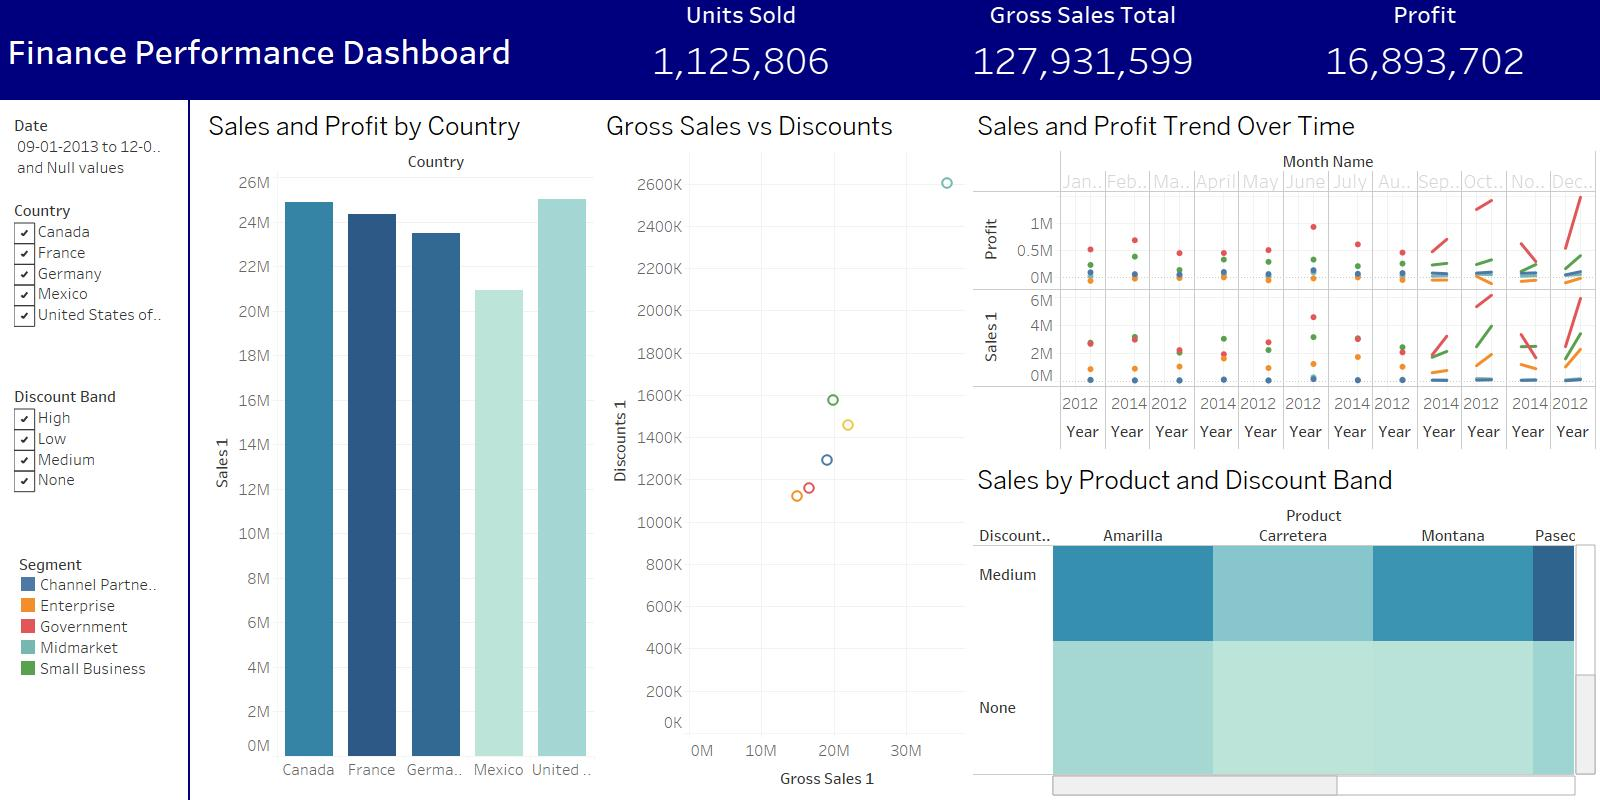

What the dashboard file says about the page in this screenshot:
{"tool":"tableau","page":{"name":"Finance Report","canvas":[1600,800],"ordinal":0},"visuals":[{"type":"text","box":[0,0,566,100]},{"type":"worksheet","title":"KPIs","mark":"Automatic","box":[566,0,1034,100]},{"type":"blank","box":[187,100,22,700]},{"type":"worksheet","title":"Bar Chart","mark":"Automatic","rows":["Calculation_1448751728417947652"],"cols":["Country"],"box":[209,100,398,700]},{"type":"worksheet","title":"Scatter","mark":"Automatic","rows":["Calculation_1448751728416755713"],"cols":["Calculation_1448751728416997378"],"box":[607,100,371,700]},{"type":"worksheet","title":"Line Graph","mark":"Line","rows":["Calculation_1448751728416518144","Calculation_1448751728417947652"],"cols":["Month Name ","Year"],"box":[978,100,622,354]},{"type":"filter","title":"Bar Chart","param":"[federated.0wlrhtn0hblrwb18xboj40uapvso].[none:Date:qk]","box":[4,104,179,85]},{"type":"filter","title":"Scatter","param":"[federated.0wlrhtn0hblrwb18xboj40uapvso].[none:Country:nk]","box":[4,189,179,186]},{"type":"filter","title":"Bar Chart","param":"[federated.0wlrhtn0hblrwb18xboj40uapvso].[none:Discount Band :nk]","box":[4,375,179,163]},{"type":"worksheet","title":"Heat","mark":"Automatic","rows":["Discount Band "],"cols":["Product "],"box":[978,454,622,346]},{"type":"legend","title":"Line Graph","param":"[federated.0wlrhtn0hblrwb18xboj40uapvso].[none:Segment:nk]","box":[4,538,179,155]}]}

Visuals, with their boxes in screenshot pixels (x1, y1, x2, y2), scaled from the page's 1600x800 canvas onto the 1600x800 screenshot:
text: <region>0, 0, 566, 100</region>
"KPIs" worksheet: <region>566, 0, 1599, 100</region>
blank: <region>187, 100, 209, 799</region>
"Bar Chart" worksheet: <region>209, 100, 607, 799</region>
"Scatter" worksheet: <region>607, 100, 978, 799</region>
"Line Graph" worksheet (Line marks): <region>978, 100, 1599, 454</region>
"Bar Chart" filter: <region>4, 104, 183, 189</region>
"Scatter" filter: <region>4, 189, 183, 375</region>
"Bar Chart" filter: <region>4, 375, 183, 538</region>
"Heat" worksheet: <region>978, 454, 1599, 799</region>
"Line Graph" legend: <region>4, 538, 183, 693</region>
